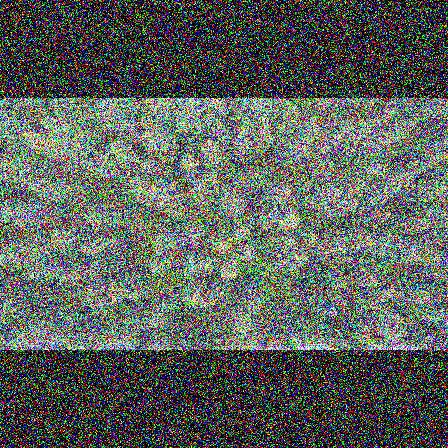Sick: (178, 249, 205, 279), (85, 289, 117, 314), (223, 220, 254, 245), (178, 220, 206, 247), (197, 166, 222, 189), (367, 158, 391, 178), (246, 165, 270, 183)
